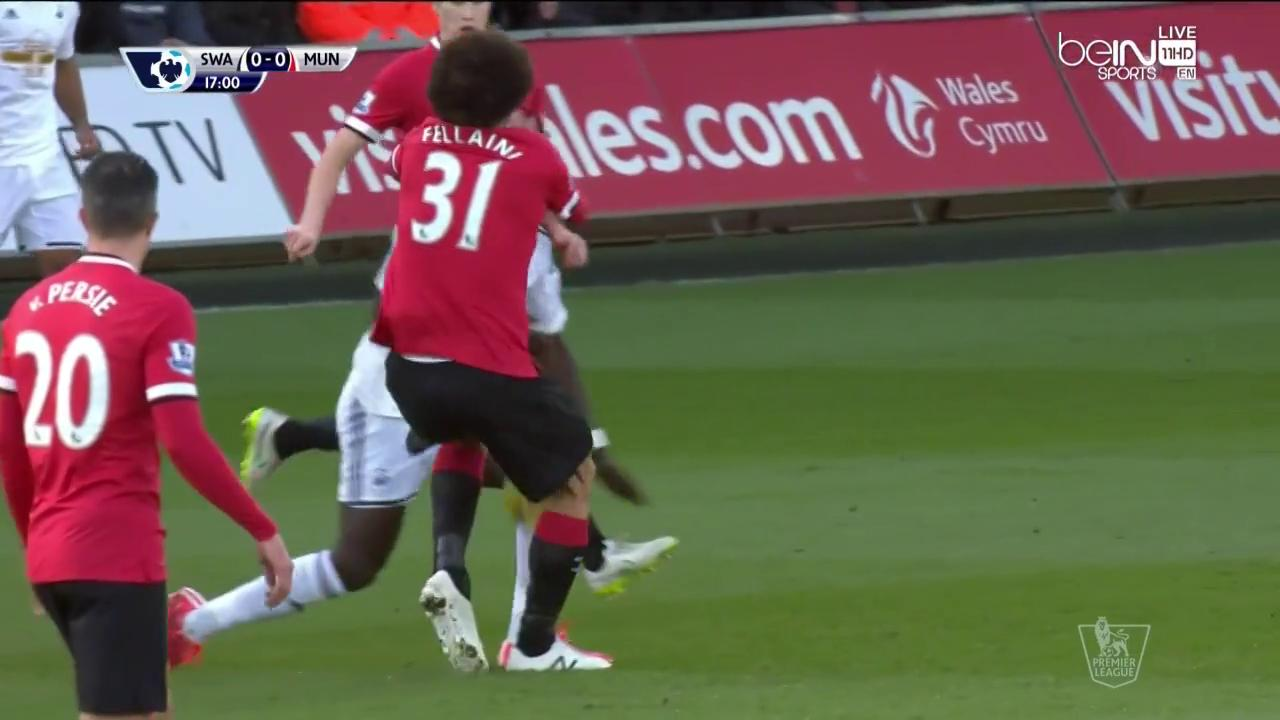football: (508, 480, 544, 526)
